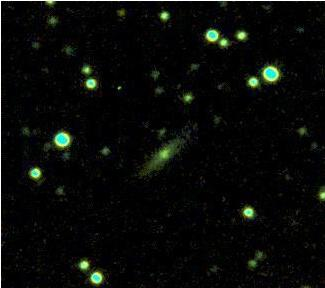star: (100, 0, 130, 29)
